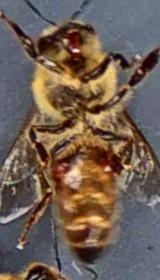varroa_mite: (45, 154, 75, 183), (98, 151, 124, 178)
